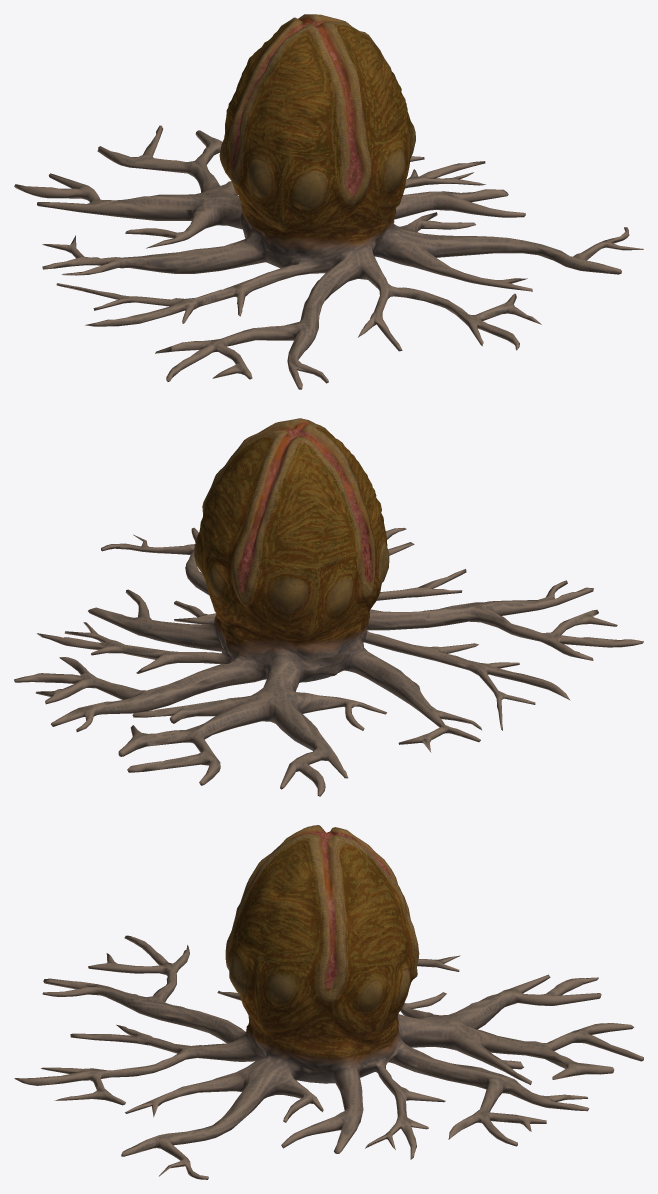
The model's file is alien_egg.gltf.
The picture shows the model from 3 angles, top to bottom: view 1: azimuth 30°, elevation 25°; view 2: azimuth 150°, elevation 25°; view 3: azimuth 270°, elevation 25°; orthographic projection.
Parts seen in each view (by area): view 1: Plano.002; view 2: Plano.002; view 3: Plano.002.
Part boxes in pixels (x1,y1,x2,y2): Plano.002: (14, 14, 643, 389); Plano.002: (14, 418, 643, 796); Plano.002: (14, 825, 643, 1179).
Size of the model in its own units: 6.44 by 2.94 by 7.
Materials: 1 (1 with a texture image).
